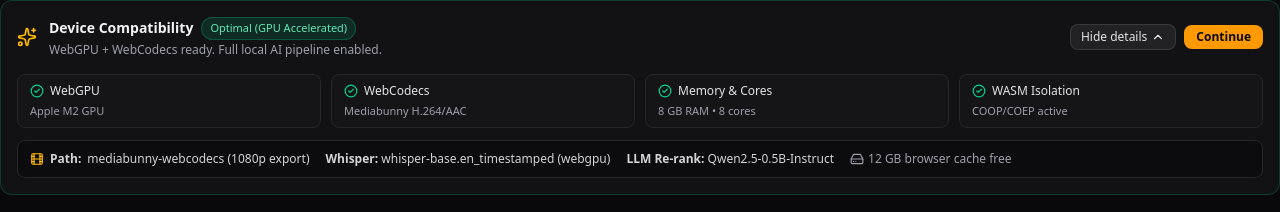
CompatibilityPanel › displays optimal tier details and allows collapsing
Later steps or results of the test are not shown.
Expected: the text "Optimal (GPU Accelerated)" is shown, [201,17,356,40]
Expected: the text "Apple M2 GPU" is shown, [30,102,104,118]
Click the button "Hide details" at [1123, 37], box [1070,24,1176,50]
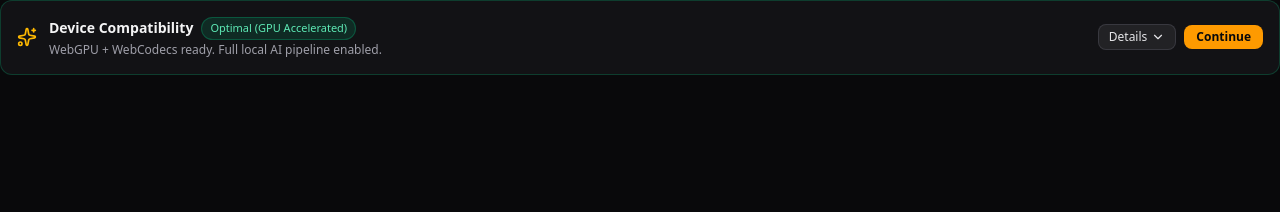
Result: the text "Apple M2 GPU" is gone
